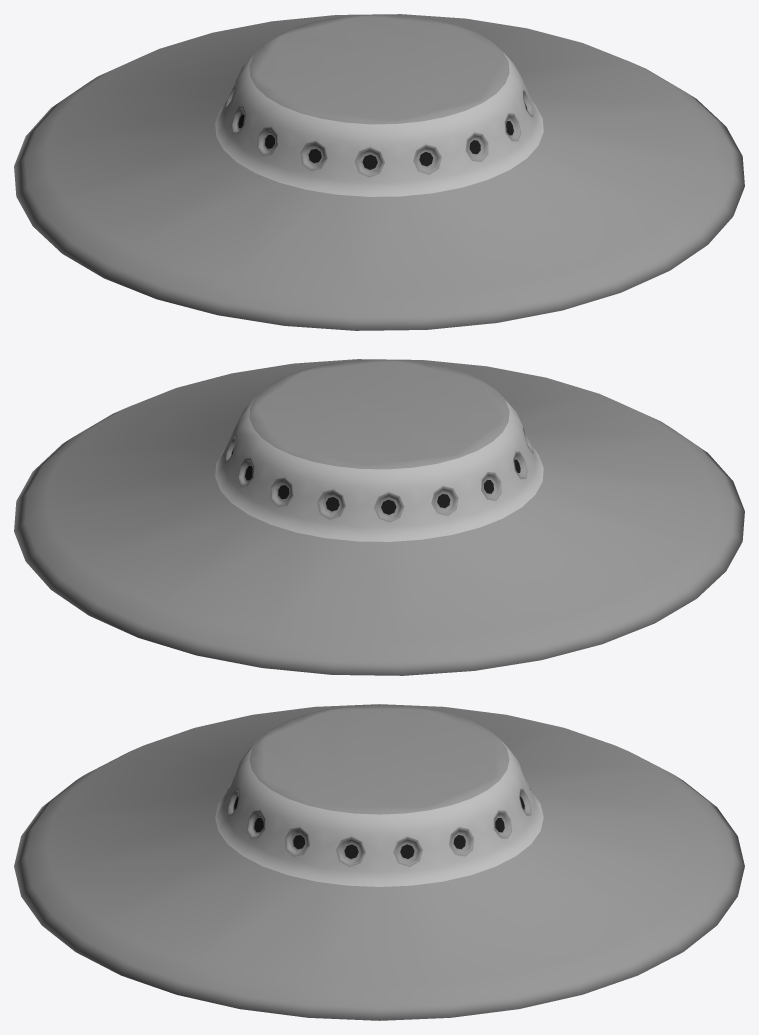
The model's file is Saucer04_Low.fbx.
3 views of the same model, one above another, from view 1: azimuth 30°, elevation 25°; view 2: azimuth 150°, elevation 25°; view 3: azimuth 270°, elevation 25° (orthographic).
Visible parts, largest first — view 1: High_001; view 2: High_001; view 3: High_001.
Boxes of the visible parts, bbox=[...] form: High_001: bbox=[14, 14, 744, 330]; High_001: bbox=[14, 359, 744, 675]; High_001: bbox=[14, 704, 744, 1020].
Bounding box in the file's own units: 5.82 × 1.56 × 5.82.
